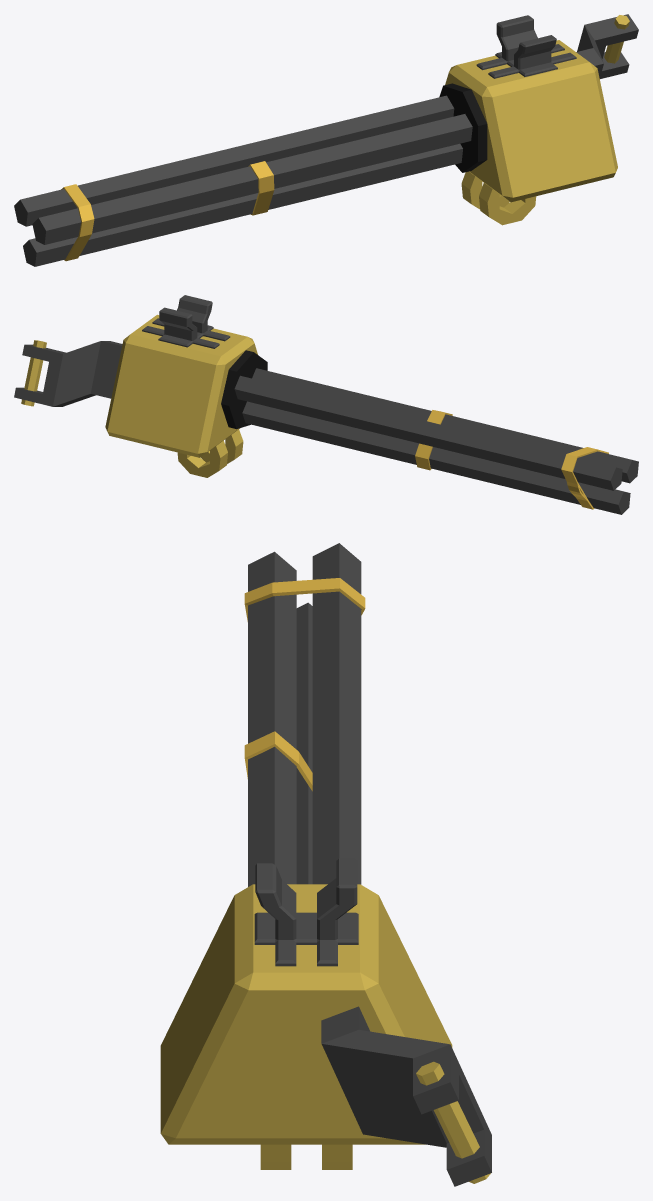
The model's file is Turret.fbx.
3 views of the same model, one above another, from view 1: azimuth 30°, elevation 25°; view 2: azimuth 150°, elevation 25°; view 3: azimuth 270°, elevation 25° (orthographic). The views are drawn at different scales.
Parts seen in each view (by area): view 1: Barrel, Core, Site, HandelBracket, Handel; view 2: Barrel, Core, HandelBracket, Site, Handel; view 3: Core, Barrel, HandelBracket, Site, Handel.
Boxes of the visible parts, x1,y1,x2,y2 form: Barrel: [14, 83, 487, 266]; Core: [445, 40, 617, 225]; Site: [476, 15, 576, 78]; HandelBracket: [576, 14, 638, 78]; Handel: [604, 15, 629, 63]; Barrel: [221, 350, 638, 514]; Core: [105, 314, 257, 477]; HandelBracket: [14, 341, 122, 406]; Site: [142, 295, 230, 348]; Handel: [21, 340, 46, 406]; Core: [160, 884, 452, 1169]; Barrel: [244, 543, 365, 886]; HandelBracket: [321, 1006, 491, 1186]; Site: [254, 858, 358, 966]; Handel: [416, 1061, 490, 1183].
Bounding box in the file's own units: 215 × 57.18 × 54.76.
